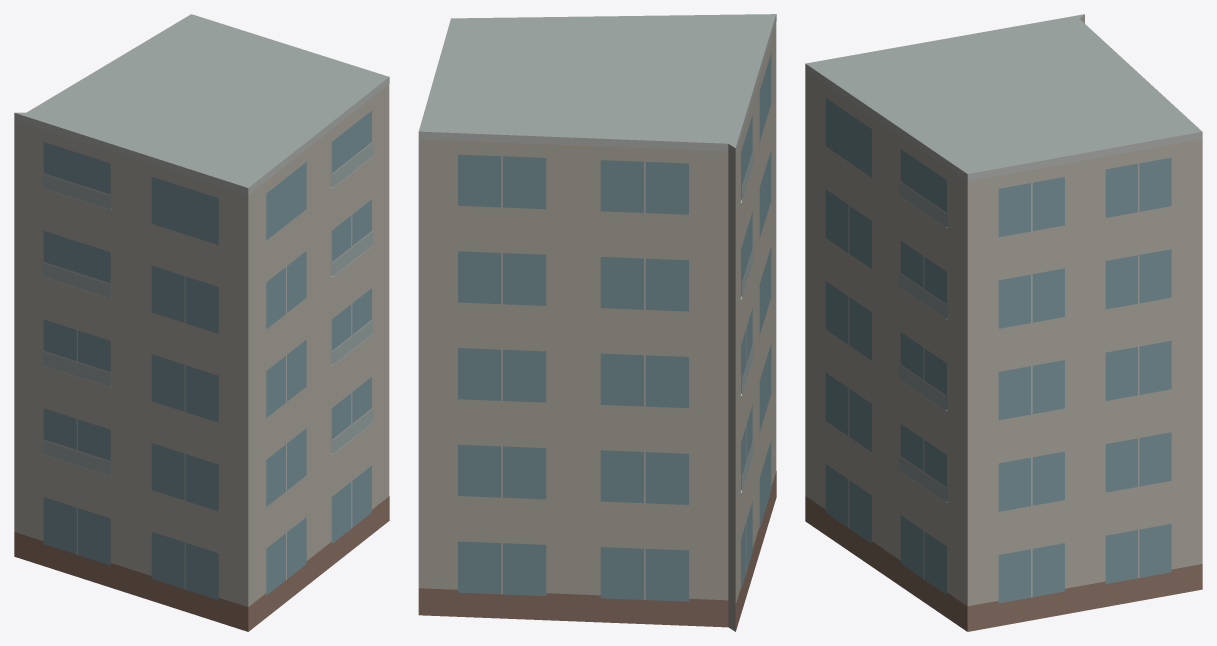
The model's file is survey-upis-32862264.glb.
3 views of the same model, side by side, from view 1: azimuth 30°, elevation 25°; view 2: azimuth 150°, elevation 25°; view 3: azimuth 270°, elevation 25° (orthographic). The views are drawn at different scales.
Visible parts, largest first — view 1: survey-upis-32862264.tmp; view 2: survey-upis-32862264.tmp; view 3: survey-upis-32862264.tmp.
Boxes of the visible parts, x1=… form: survey-upis-32862264.tmp: x1=14, y1=14, x2=389, y2=631; survey-upis-32862264.tmp: x1=418, y1=14, x2=776, y2=631; survey-upis-32862264.tmp: x1=805, y1=14, x2=1202, y2=631.
Bounding box in the file's own units: 11.45 × 15.25 × 12.
